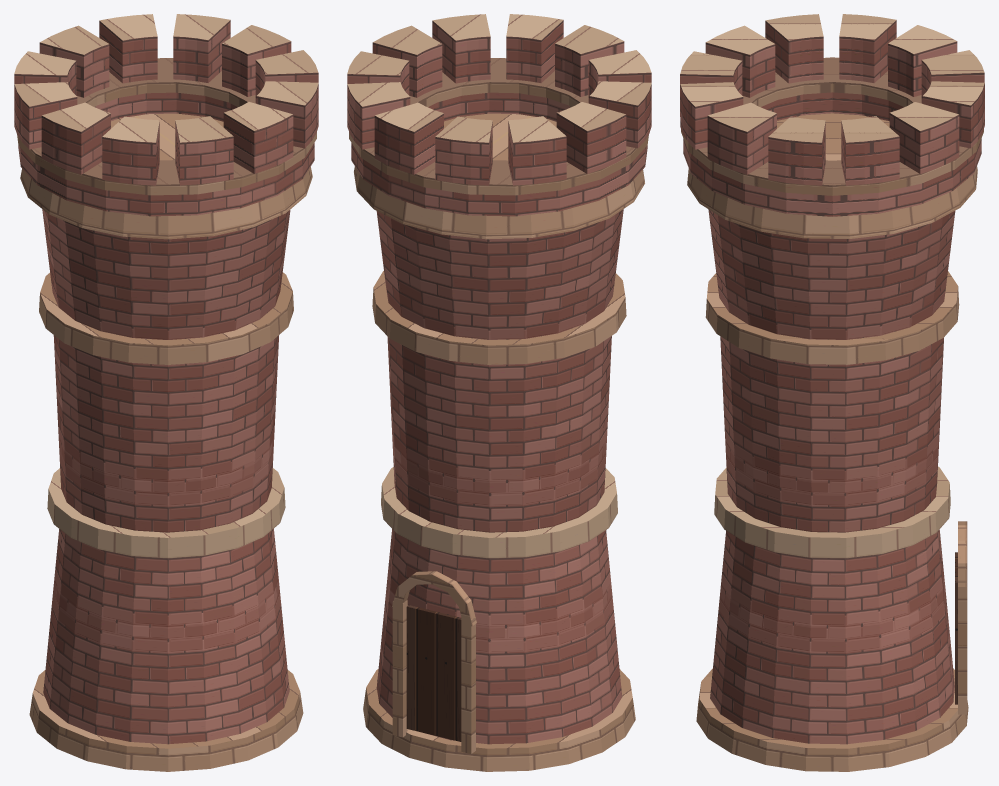
File: Tower_Round_Entry.obj
3 renders of one model, left to right at view 1: azimuth 30°, elevation 25°; view 2: azimuth 150°, elevation 25°; view 3: azimuth 270°, elevation 25°, orthographic.
Visible parts, largest first — view 1: Brick_Rose, Stone_Sand, Stone_Light; view 2: Brick_Rose, Stone_Sand, Stone_Light, Wood_Dark; view 3: Brick_Rose, Stone_Sand, Stone_Light.
Part boxes in pixels (x1,y1,x2,y2): Brick_Rose: [14, 20, 318, 744]; Stone_Sand: [17, 58, 316, 771]; Stone_Light: [14, 14, 318, 558]; Brick_Rose: [347, 20, 651, 744]; Stone_Sand: [349, 58, 648, 771]; Stone_Light: [347, 14, 651, 558]; Wood_Dark: [406, 605, 461, 741]; Brick_Rose: [680, 20, 984, 744]; Stone_Sand: [681, 57, 983, 771]; Stone_Light: [680, 14, 984, 558].
Bounding box in the file's own units: 2.89 × 6.66 × 2.89.
4 materials, 4 textured.
